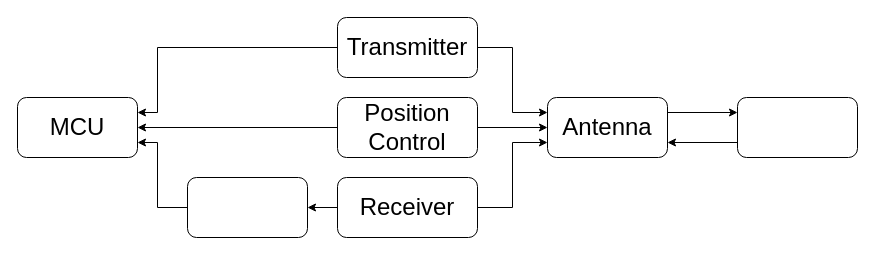
Image size: 875x255. Some labels were removed from this diagram. Each missing label, with the centre of its shape:
"Drone" belongs at (x=797, y=127).
"DSP" belongs at (x=247, y=207).
